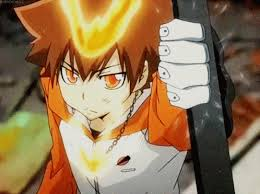Tsuna: (41, 6, 154, 119)
